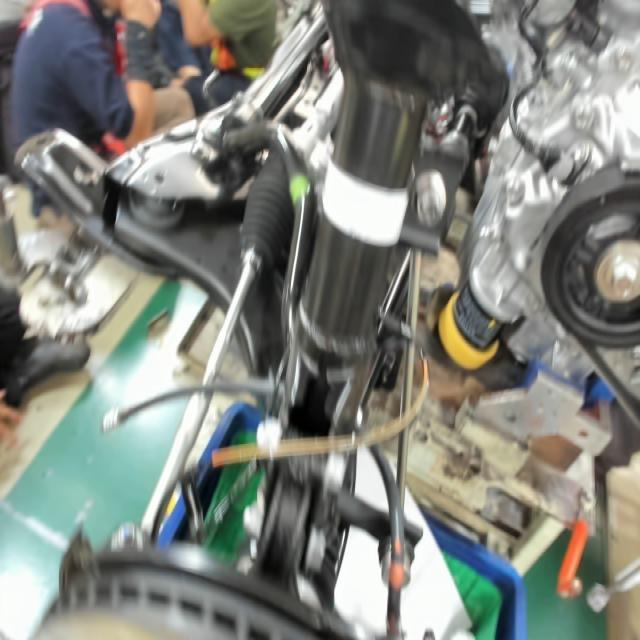Bar Stabilizer-HJ: (284, 172, 311, 206)
